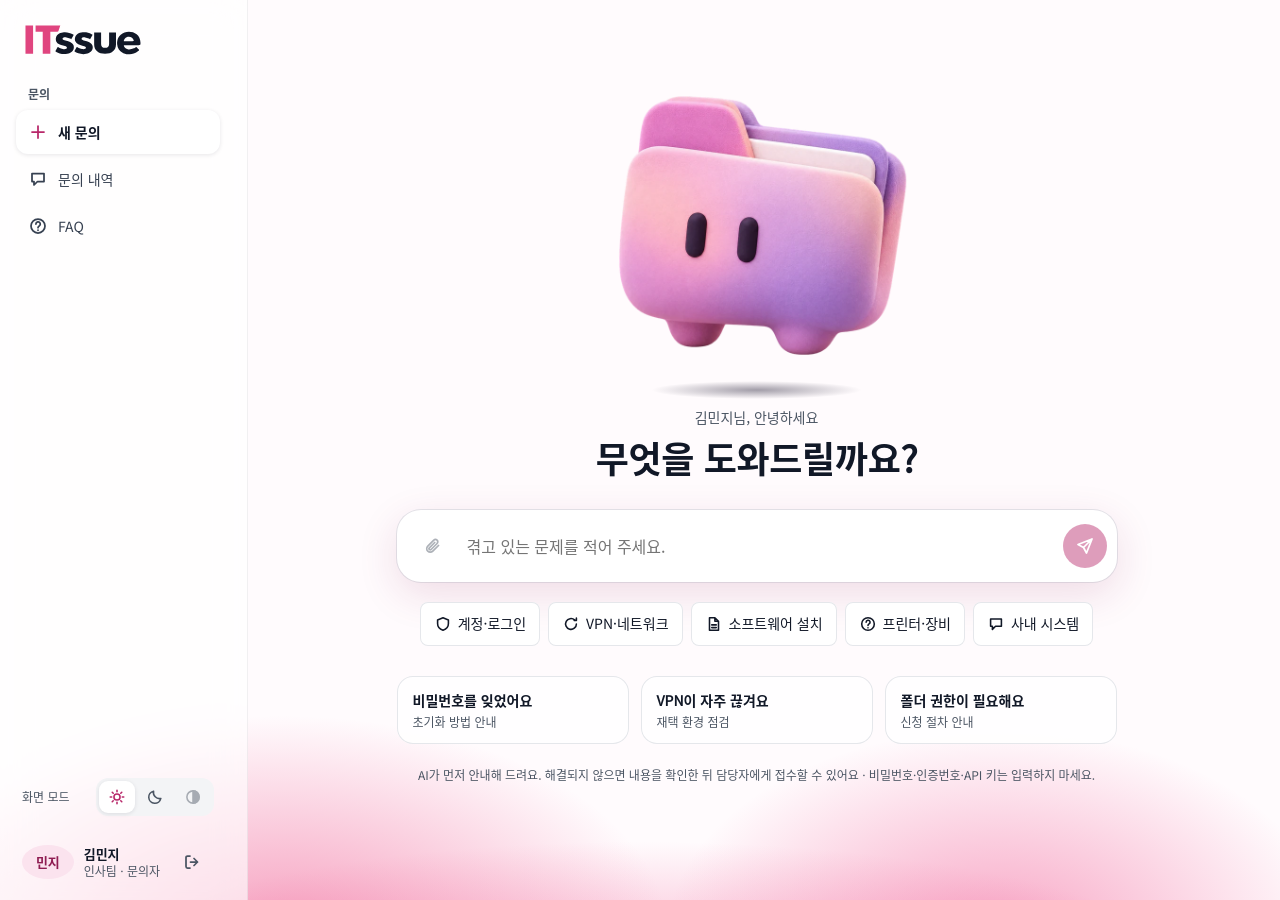
it: 대화 화면 › 새 문의를 보내면 대화 화면으로 이동해 확인 질문을 보여 준다
Step 1. Type "VPN이 끊겨요" into the text box named "메시지 입력" → coordinates (758, 546), box [460,524,1056,568]
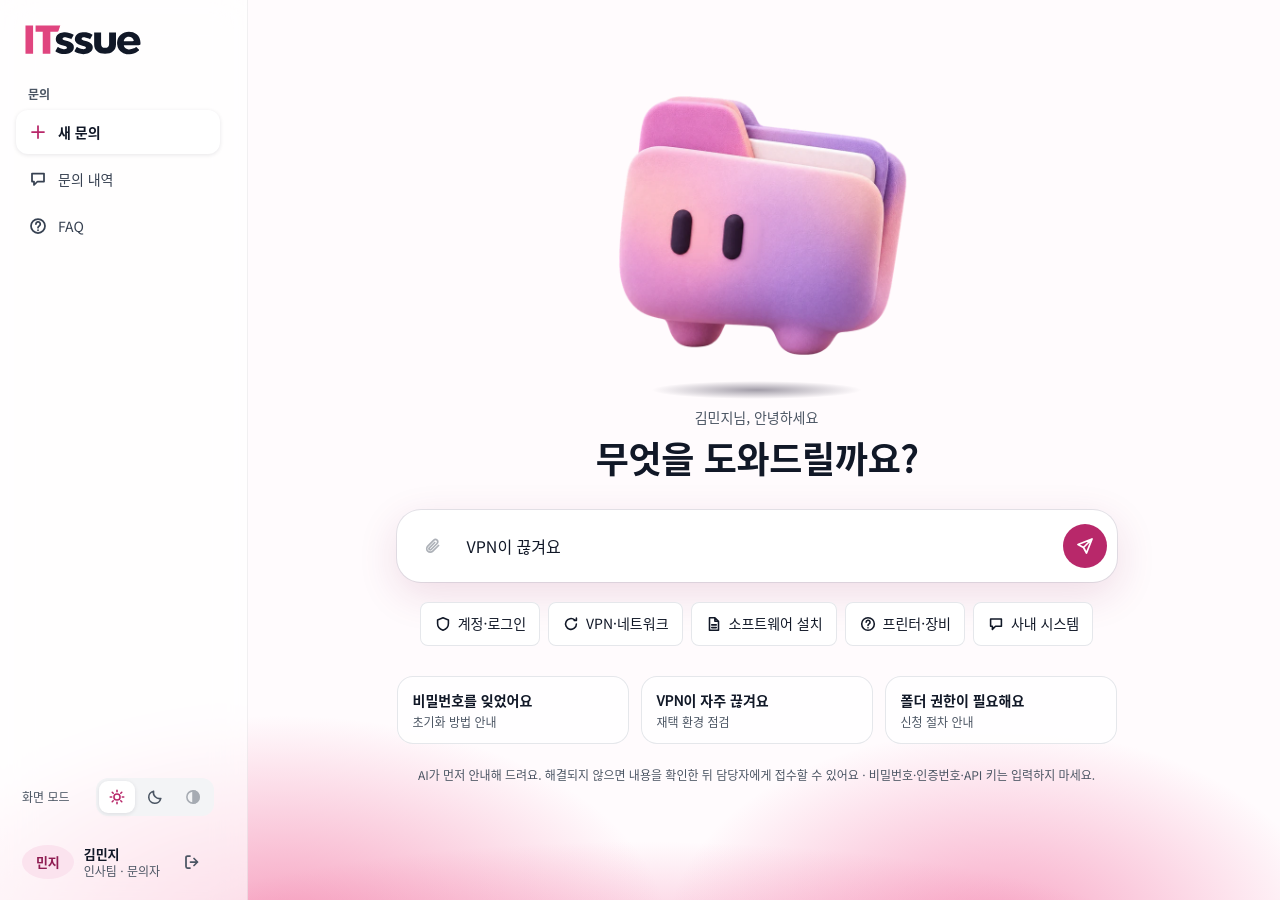
Step 2. Click the button named "보내기" → coordinates (1084, 546), box [1062,524,1106,568]
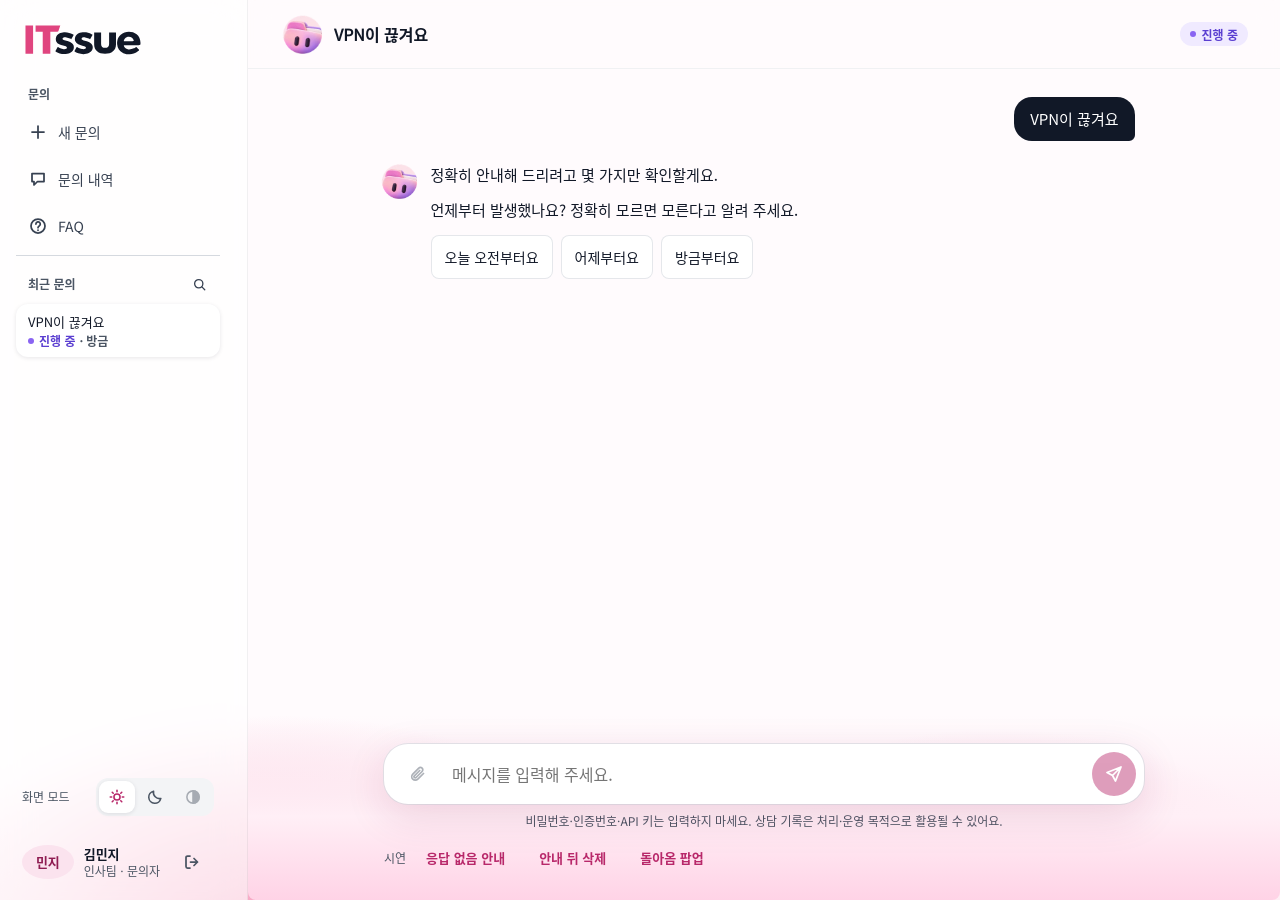
Expected: the text "정확히 안내해 드리려고 몇 가지만 확인할게요." is shown, [430,164,718,185]
Expected: the 1st text "VPN이 끊겨요" is shown, [1014,97,1134,141]
Expected: the button "VPN이 끊겨요 진행 중 · 방금" is shown, [16,304,220,357]
